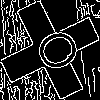O: (25, 25, 83, 80)
